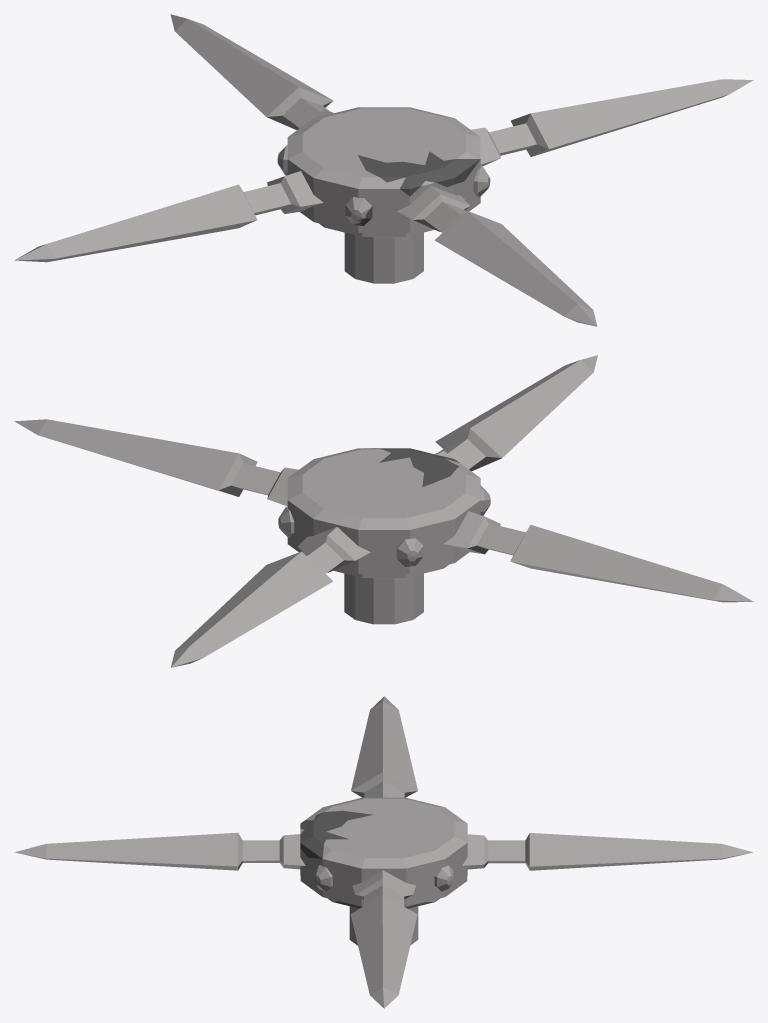
File: GNDSpikeSpinning.fbx
3 views of the same model, one above another, from view 1: azimuth 30°, elevation 25°; view 2: azimuth 150°, elevation 25°; view 3: azimuth 270°, elevation 25° (orthographic). The views are drawn at different scales.
Visible parts, largest first — view 1: GNDSpikeSpinning; view 2: GNDSpikeSpinning; view 3: GNDSpikeSpinning.
Part boxes in pixels (left/top/right/bottom): GNDSpikeSpinning: left=14, top=14, right=753, bottom=326; GNDSpikeSpinning: left=14, top=355, right=753, bottom=667; GNDSpikeSpinning: left=14, top=696, right=753, bottom=1008.
Bounding box in the file's own units: 207 × 33.11 × 207.
